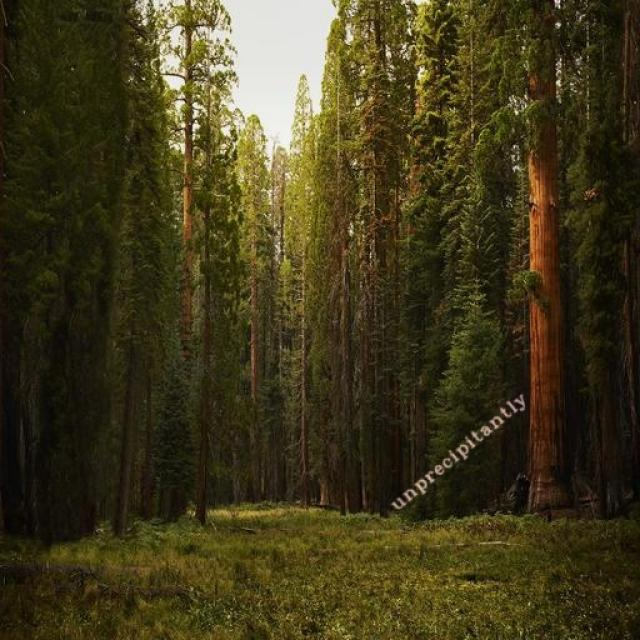watermark: (390, 385, 528, 514)
